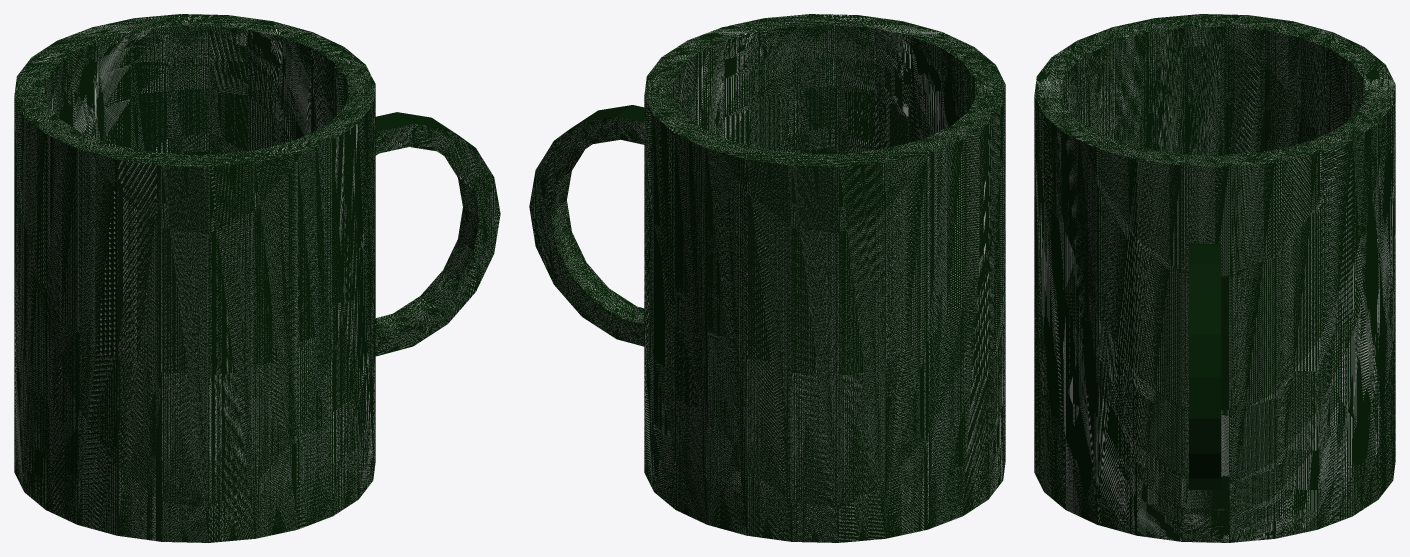
3 renders of one model, left to right at view 1: azimuth 30°, elevation 25°; view 2: azimuth 150°, elevation 25°; view 3: azimuth 270°, elevation 25°, orthographic.
Parts seen in each view (by area): view 1: mesh1_mesh1-geometry, mesh2_mesh2-geometry; view 2: mesh1_mesh1-geometry, mesh2_mesh2-geometry; view 3: mesh1_mesh1-geometry, mesh2_mesh2-geometry.
Part boxes in pixels (left/top/right/bottom): mesh1_mesh1-geometry: left=14, top=14, right=375, bottom=542; mesh2_mesh2-geometry: left=375, top=112, right=500, bottom=356; mesh1_mesh1-geometry: left=644, top=14, right=1005, bottom=542; mesh2_mesh2-geometry: left=529, top=105, right=644, bottom=346; mesh1_mesh1-geometry: left=1034, top=14, right=1395, bottom=542; mesh2_mesh2-geometry: left=1189, top=243, right=1221, bottom=489.
Bounding box in the file's own units: 0.6856 × 0.549 × 0.478.
